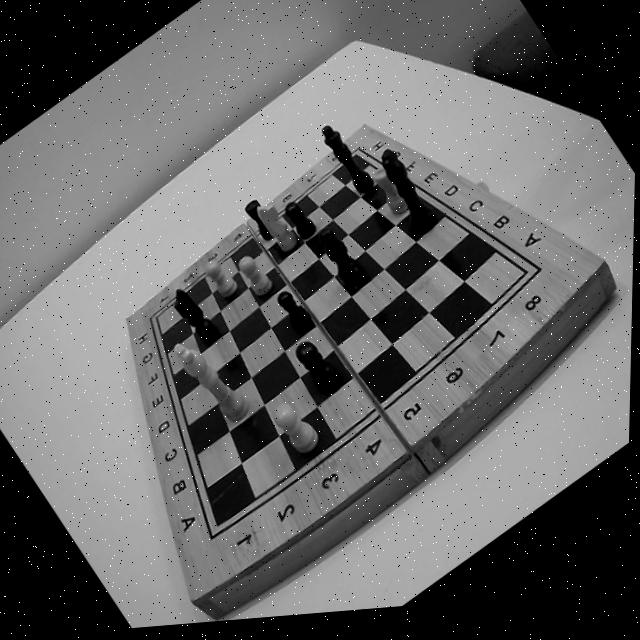chessboard: (157, 156, 527, 528)
